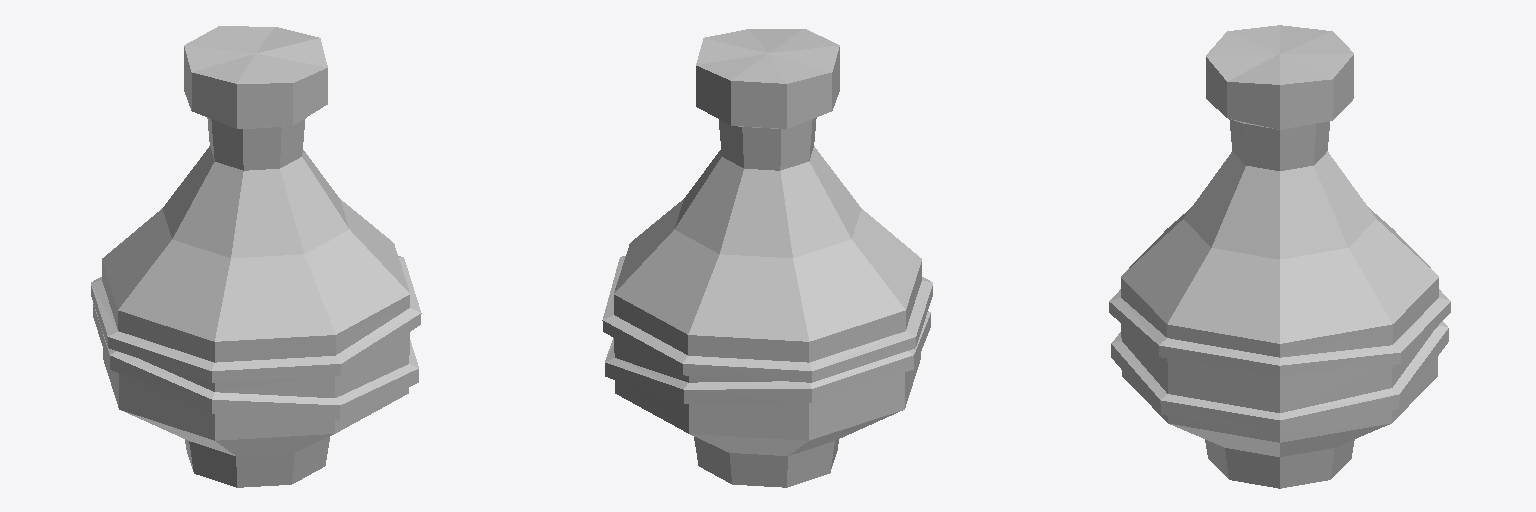
The model's file is OneUp.obj.
The picture shows the model from 3 angles: view 1: azimuth 30°, elevation 25°; view 2: azimuth 150°, elevation 25°; view 3: azimuth 270°, elevation 25°; orthographic projection.
Parts seen in each view (by area): view 1: SM_Item_Potion_01_Mesh; view 2: SM_Item_Potion_01_Mesh; view 3: SM_Item_Potion_01_Mesh.
Boxes of the visible parts, box(x1,y1,x2,y2) form: SM_Item_Potion_01_Mesh: box(91, 26, 421, 487); SM_Item_Potion_01_Mesh: box(602, 29, 932, 487); SM_Item_Potion_01_Mesh: box(1109, 25, 1450, 488).
Bounding box in the file's own units: 0.8153 × 1.06 × 0.8151.